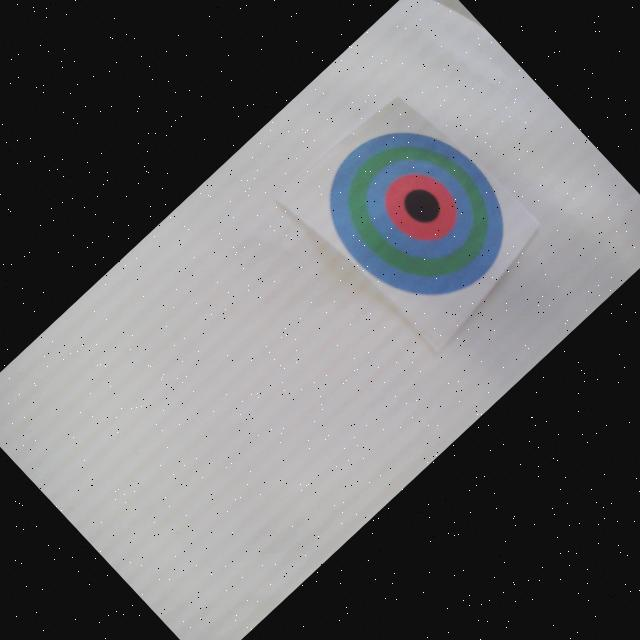COGNITIVE: (300, 94, 537, 332)
